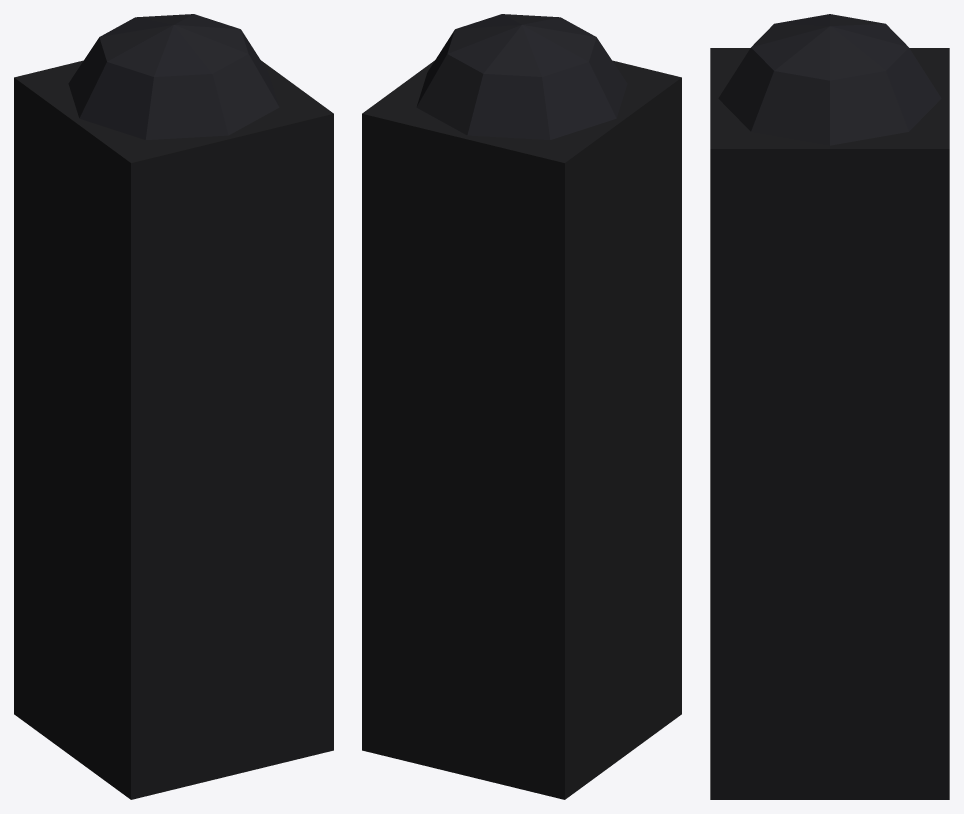
File: env_bollard.fbx
3 renders of one model, left to right at view 1: azimuth 30°, elevation 25°; view 2: azimuth 150°, elevation 25°; view 3: azimuth 270°, elevation 25°, orthographic. The views are drawn at different scales.
Visible parts, largest first — view 1: COL_env_bollard, env_bollard_geo; view 2: COL_env_bollard, env_bollard_geo; view 3: COL_env_bollard, env_bollard_geo.
Part boxes in pixels (x1=…): COL_env_bollard: x1=14, y1=60, x2=333, y2=799; env_bollard_geo: x1=68, y1=14, x2=279, y2=139; COL_env_bollard: x1=362, y1=60, x2=681, y2=799; env_bollard_geo: x1=416, y1=14, x2=627, y2=139; COL_env_bollard: x1=710, y1=48, x2=949, y2=799; env_bollard_geo: x1=718, y1=14, x2=941, y2=145.
Bounding box in the file's own units: 0.3 × 1 × 0.3.
